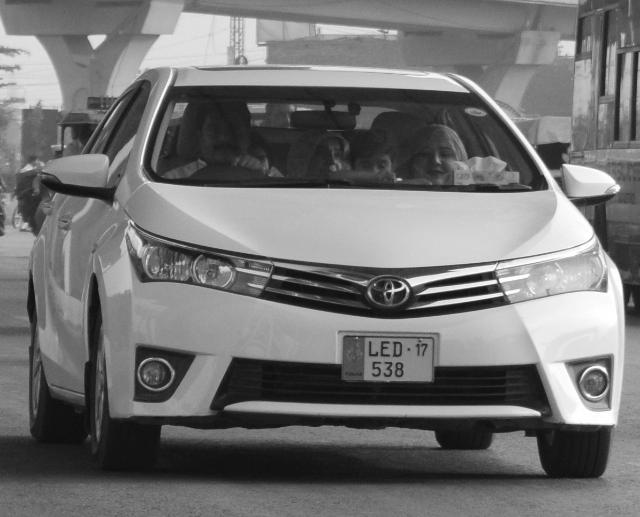Number: (364, 338, 410, 380)
